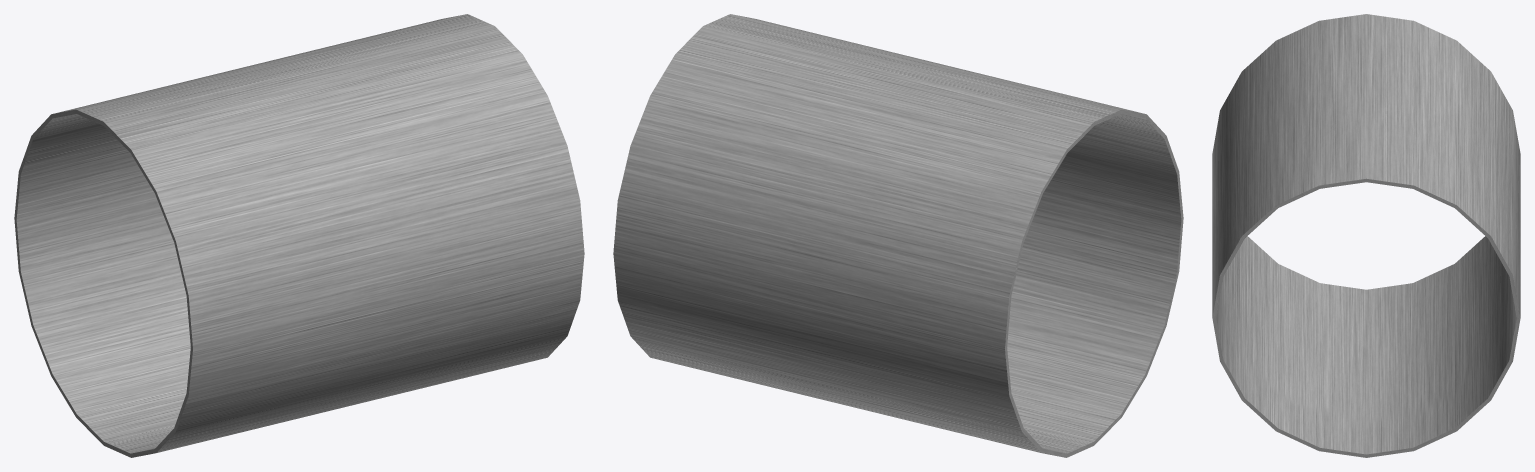
File: CubeBaseFrontPipe.fbx
3 renders of one model, left to right at view 1: azimuth 30°, elevation 25°; view 2: azimuth 150°, elevation 25°; view 3: azimuth 270°, elevation 25°, orthographic. The views are drawn at different scales.
Parts seen in each view (by area): view 1: pPipe1; view 2: pPipe1; view 3: pPipe1.
Boxes of the visible parts, x1,y1,x2,y2 form: pPipe1: (14,14,584,457); pPipe1: (613,14,1183,457); pPipe1: (1212,14,1520,457).
Bounding box in the file's own units: 1.01 × 0.8 × 0.8.
1 material, 1 textured.
